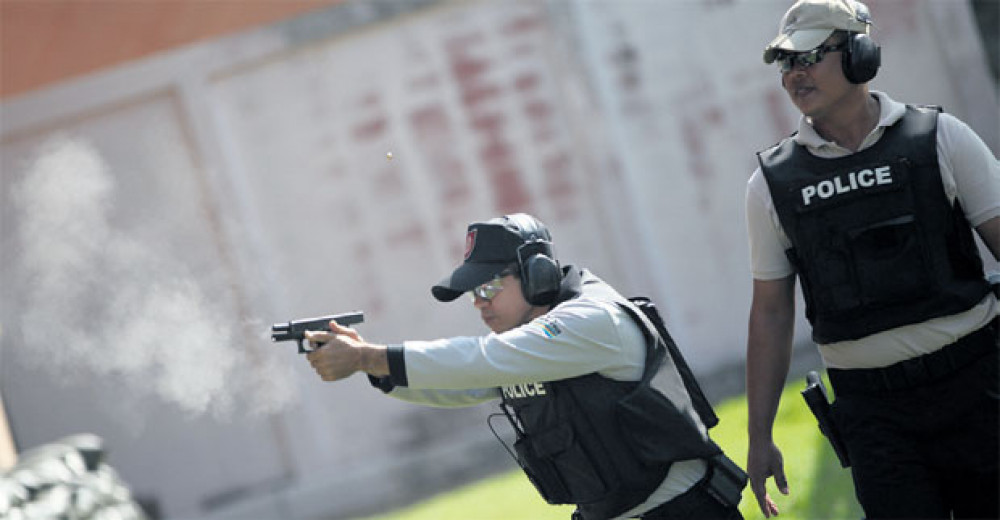gun: (266, 307, 368, 356)
